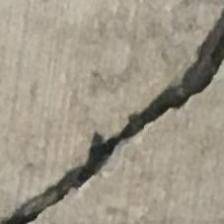Crack: (0, 9, 224, 224)
